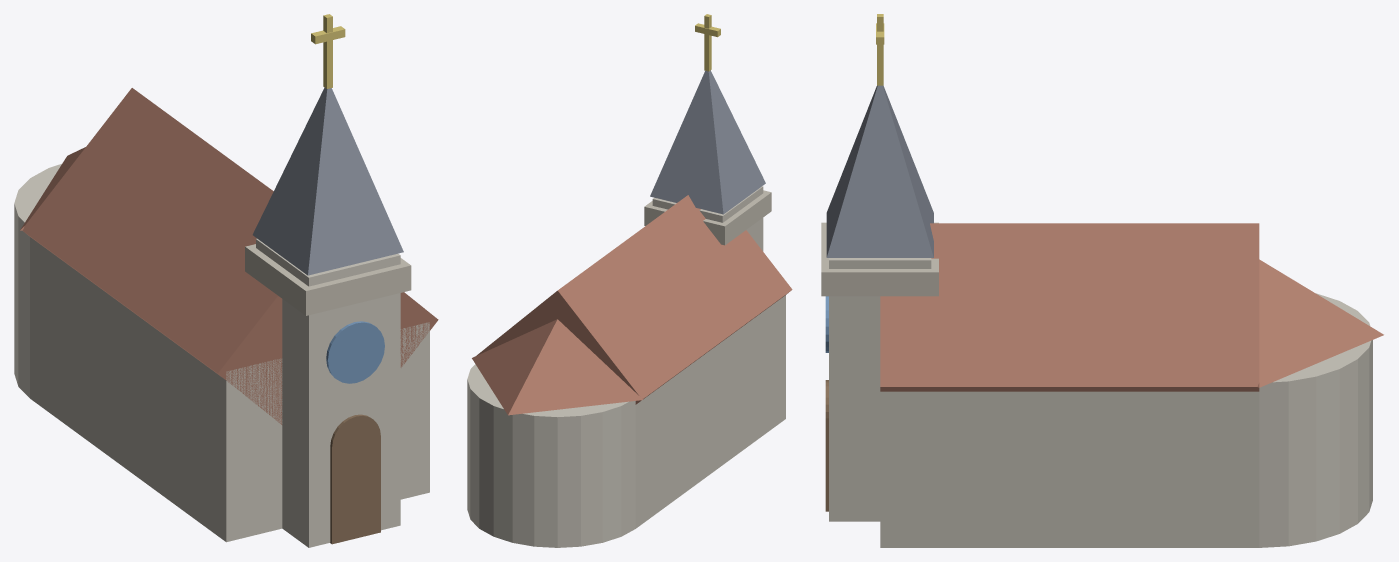
Rendered from demo_church.glb.
3 views of the same model, side by side, from view 1: azimuth 30°, elevation 25°; view 2: azimuth 150°, elevation 25°; view 3: azimuth 270°, elevation 25° (orthographic). The views are drawn at different scales.
Parts seen in each view (by area): view 1: world; view 2: world; view 3: world.
Boxes of the visible parts, x1,y1,x2,y2 form: world: (14, 14, 438, 547); world: (467, 14, 792, 547); world: (821, 14, 1383, 547).
Size of the model in its own units: 3.3 by 7.06 by 7.43.
